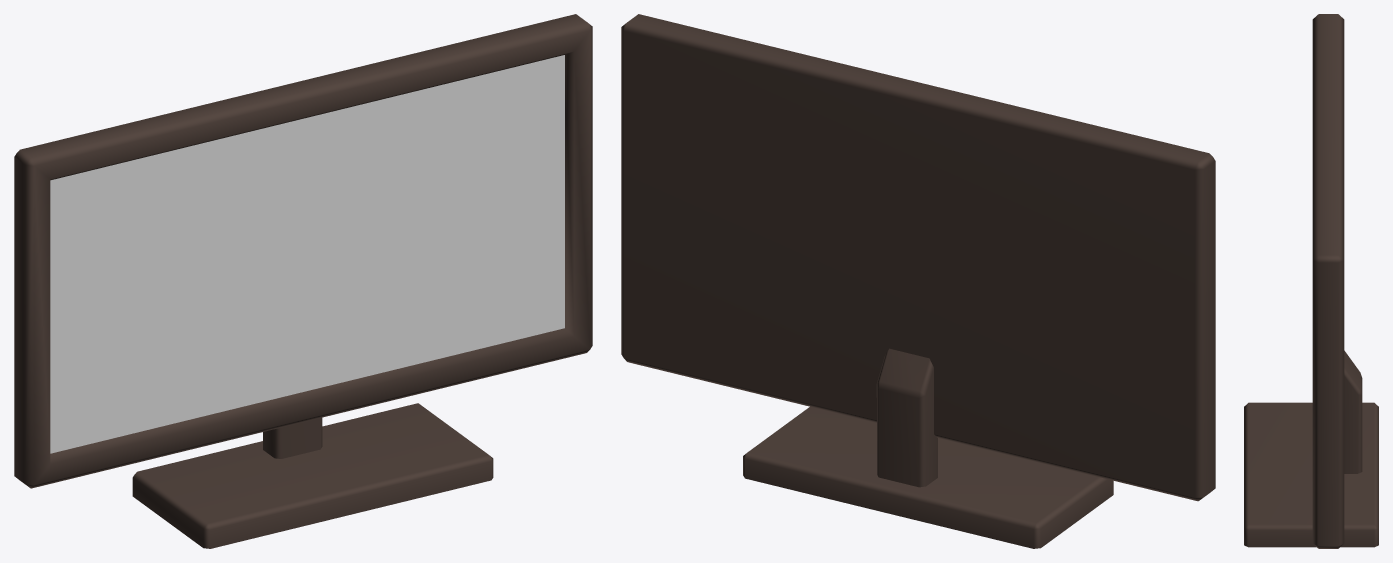
The picture shows the model from 3 angles, left to right: view 1: azimuth 30°, elevation 25°; view 2: azimuth 150°, elevation 25°; view 3: azimuth 270°, elevation 25°; orthographic projection. The views are drawn at different scales.
Visible parts, largest first — view 1: wall cabinet.015; view 2: wall cabinet.015; view 3: wall cabinet.015.
Part boxes in pixels (left/top/right/bottom): wall cabinet.015: left=14, top=14, right=592, bottom=548; wall cabinet.015: left=621, top=14, right=1215, bottom=548; wall cabinet.015: left=1244, top=14, right=1378, bottom=548.
Size of the model in its own units: 1.61 by 1.07 by 0.3733.
